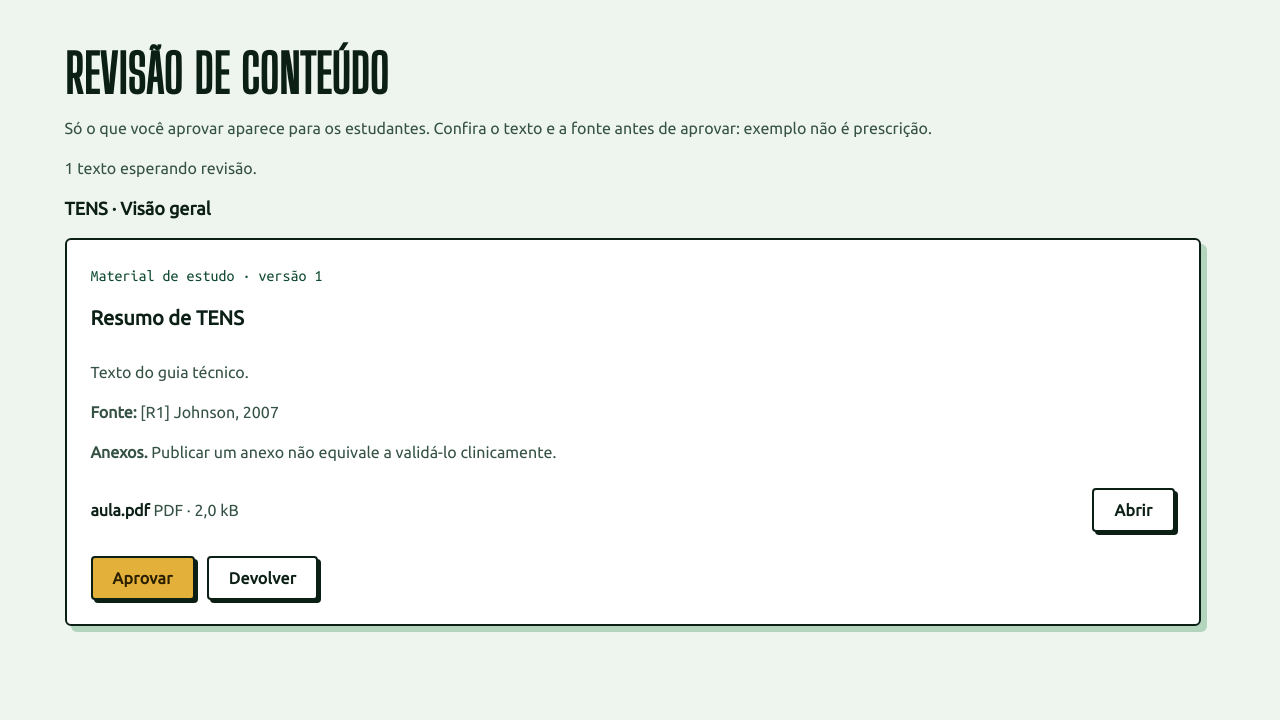
Test case: deveAvisarQuandoOAnexoNaoAbre
Click the button with aria-label "Abrir aula.pdf" at (1134, 510), box top-left (1092, 488), bottom-right (1174, 532)
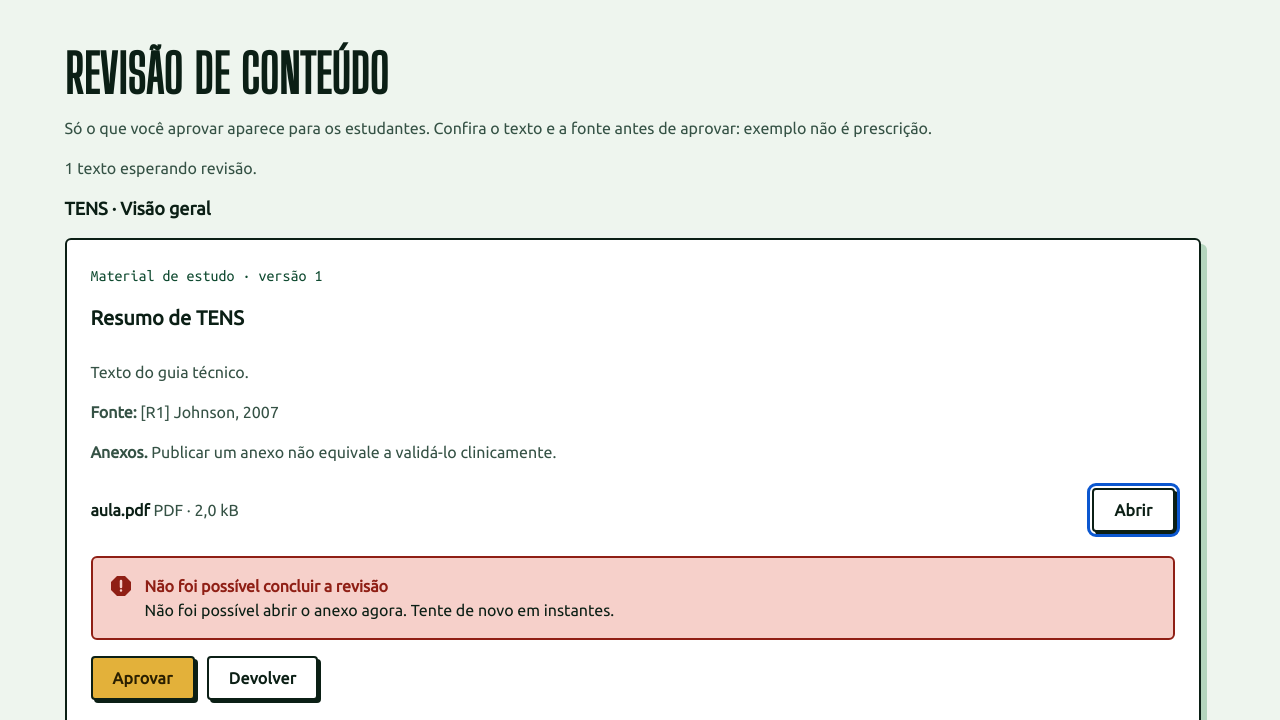
Expected: the text "Não foi possível abrir o anexo agora. Tente de novo em instantes." is shown, top-left (144, 601), bottom-right (614, 619)
